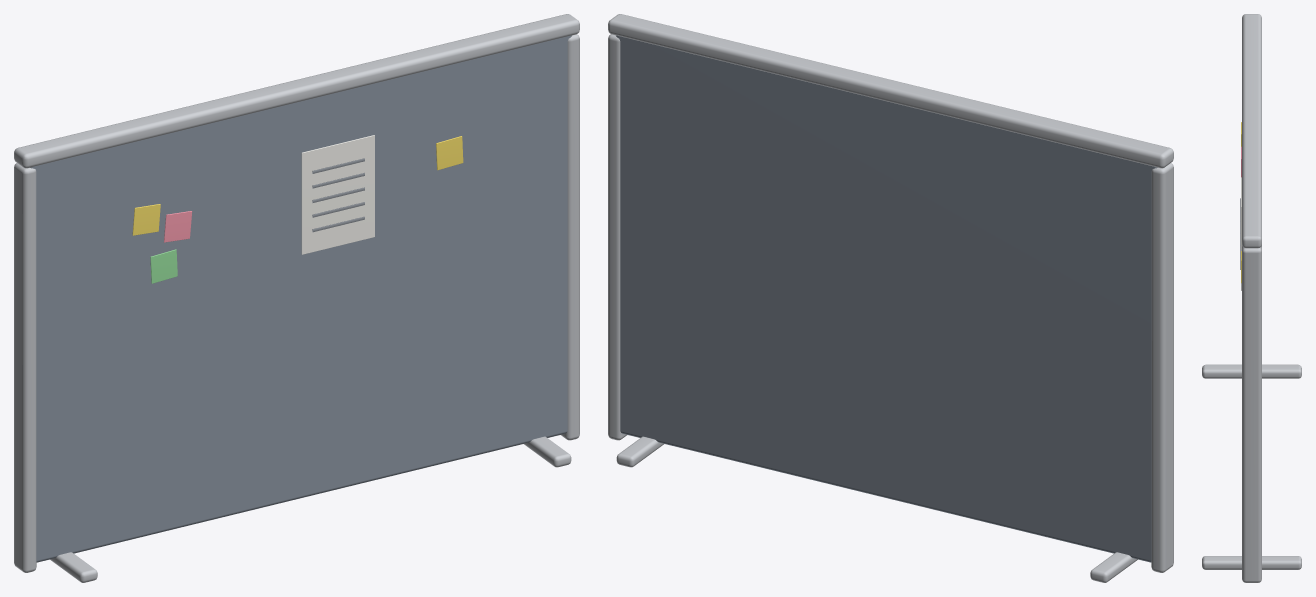
The model's file is partition.glb.
3 views of the same model, side by side, from view 1: azimuth 30°, elevation 25°; view 2: azimuth 150°, elevation 25°; view 3: azimuth 270°, elevation 25° (orthographic). The views are drawn at different scales.
Visible parts, largest first — view 1: Cube, Cube.001, Cube.010, Cube.011, Cube.008, Cube.006, Cube.007, Cube.009; view 2: Cube, Cube.001; view 3: Cube.001.
Boxes of the visible parts, <box> form: Cube: <box>30,35,571,562</box>; Cube.001: <box>14,14,579,582</box>; Cube.010: <box>301,135,374,254</box>; Cube.011: <box>312,158,364,232</box>; Cube.008: <box>150,249,177,283</box>; Cube.006: <box>132,204,160,235</box>; Cube.007: <box>164,211,192,242</box>; Cube.009: <box>436,136,463,170</box>; Cube: <box>616,35,1157,562</box>; Cube.001: <box>608,14,1173,582</box>; Cube.001: <box>1202,14,1301,582</box>.
Bounding box in the file's own units: 1.6 × 1.15 × 0.3.
